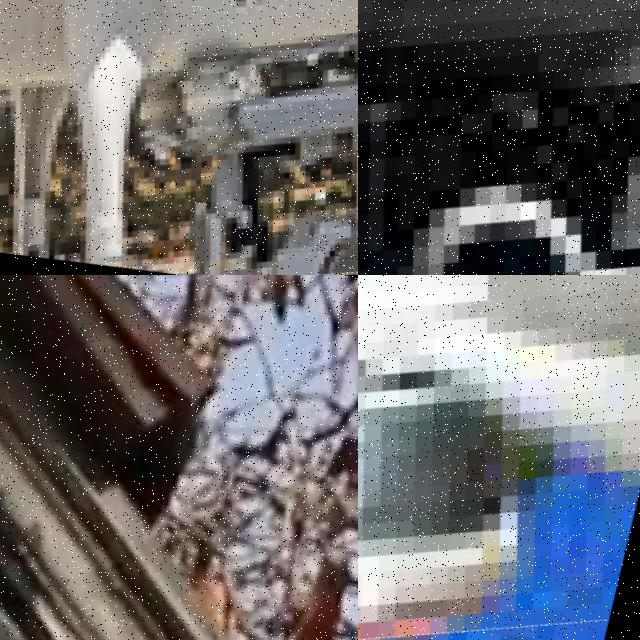drone: (358, 275, 640, 640), (0, 0, 358, 275), (358, 0, 640, 275)
